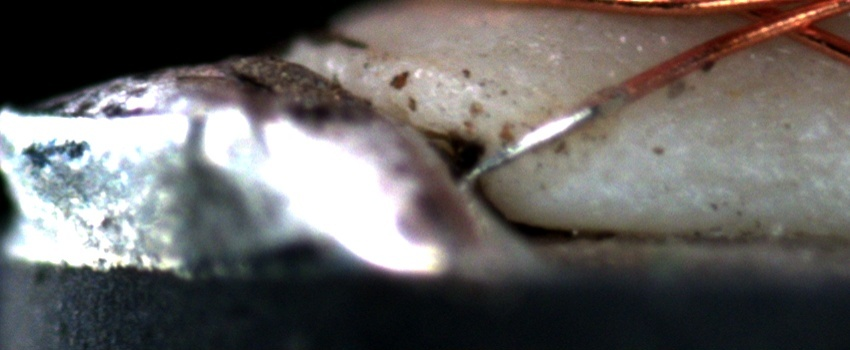CL: (722, 3, 834, 45)
TS: (461, 103, 595, 189)
